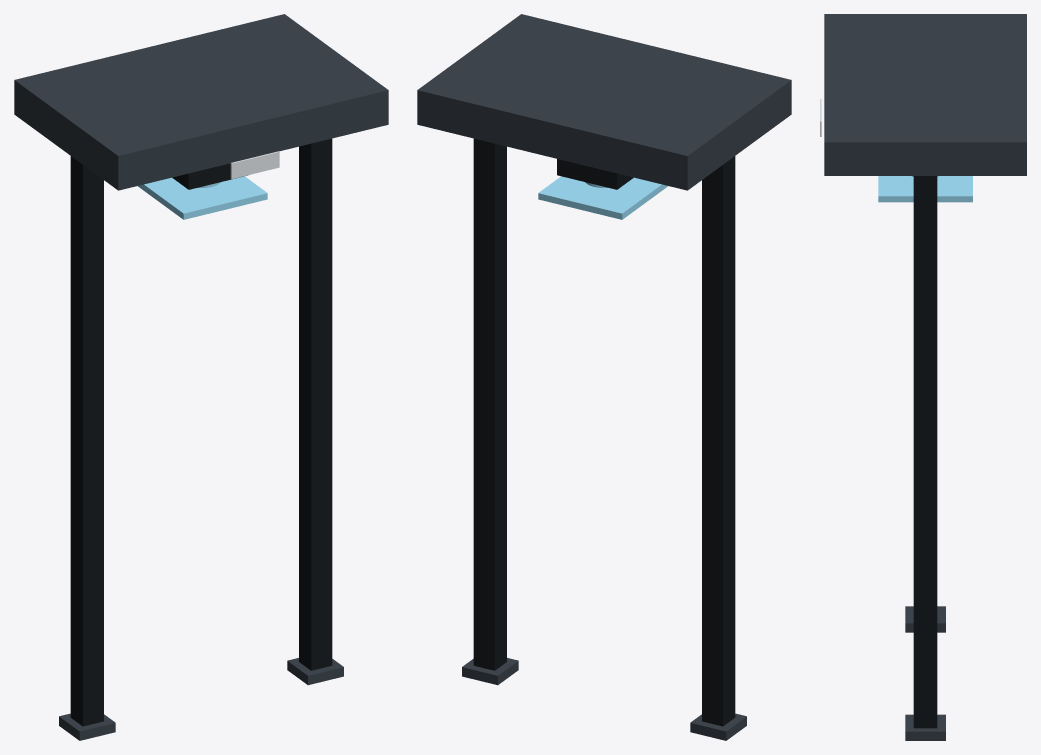
3 views of the same model, side by side, from view 1: azimuth 30°, elevation 25°; view 2: azimuth 150°, elevation 25°; view 3: azimuth 270°, elevation 25° (orthographic). The views are drawn at different scales.
Visible parts, largest first — view 1: beam, leg:-1, leg:1, inspection-light, foot:-1, foot:1, camera, label:station; view 2: beam, leg:-1, leg:1, inspection-light, camera, foot:-1, foot:1; view 3: beam, leg:1, inspection-light, foot:1, foot:-1.
Part boxes in pixels (x1=…): beam: x1=14, y1=14, x2=388, y2=190; leg:-1: x1=70, y1=156, x2=103, y2=726; leg:1: x1=299, y1=138, x2=332, y2=670; inspection-light: x1=138, y1=176, x2=267, y2=219; foot:-1: x1=59, y1=713, x2=115, y2=740; foot:1: x1=287, y1=658, x2=343, y2=685; camera: x1=172, y1=163, x2=247, y2=189; label:station: x1=230, y1=151, x2=279, y2=179; beam: x1=417, y1=14, x2=791, y2=190; leg:-1: x1=702, y1=156, x2=735, y2=726; leg:1: x1=473, y1=138, x2=506, y2=670; inspection-light: x1=538, y1=176, x2=667, y2=219; camera: x1=557, y1=159, x2=633, y2=189; foot:-1: x1=690, y1=713, x2=746, y2=740; foot:1: x1=462, y1=658, x2=518, y2=685; beam: x1=824, y1=14, x2=1026, y2=175; leg:1: x1=913, y1=176, x2=937, y2=728; inspection-light: x1=878, y1=176, x2=972, y2=202; foot:1: x1=905, y1=714, x2=945, y2=740; foot:-1: x1=905, y1=606, x2=945, y2=632.
Bounding box in the file's own units: 0.9 × 1.96 × 0.6125.
